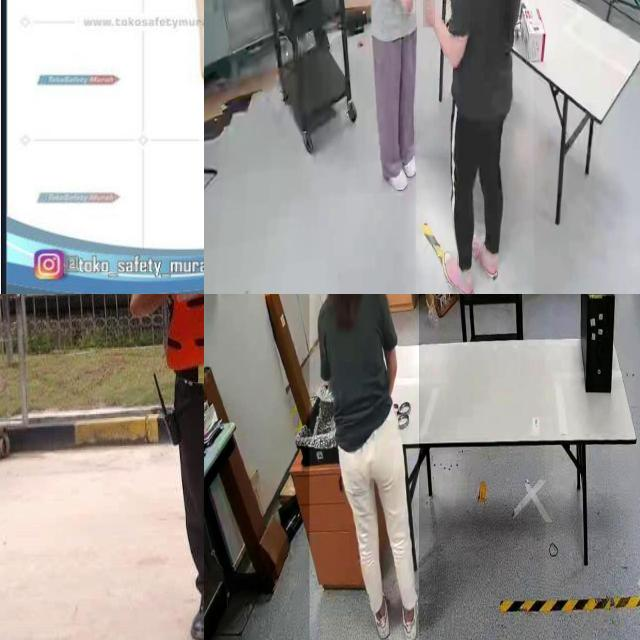boots: (190, 592, 204, 640)
hand_noglove: (422, 0, 435, 28), (395, 0, 415, 14)
person: (309, 294, 419, 640), (415, 0, 534, 294), (123, 294, 204, 640), (356, 0, 431, 194)
shoes: (437, 241, 478, 294), (468, 228, 502, 284), (380, 149, 410, 194), (399, 582, 422, 640), (396, 134, 420, 184), (369, 586, 390, 640)
vest: (166, 294, 204, 384)
